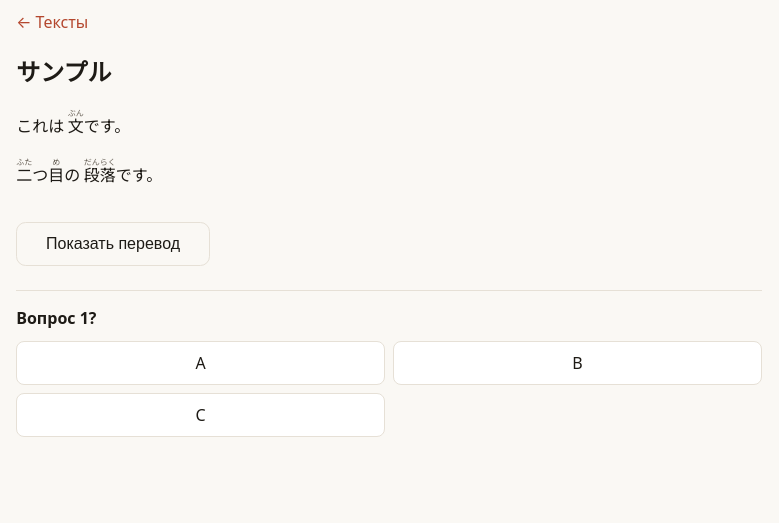
Test: TextDetailScreen › reveals the translation only after clicking the button
This screenshot has width=779, height=523.
Expected: the text "Это предложение." is not shown
Click the button "Показать перевод". click: (113, 244)
box: [16,222,210,266]
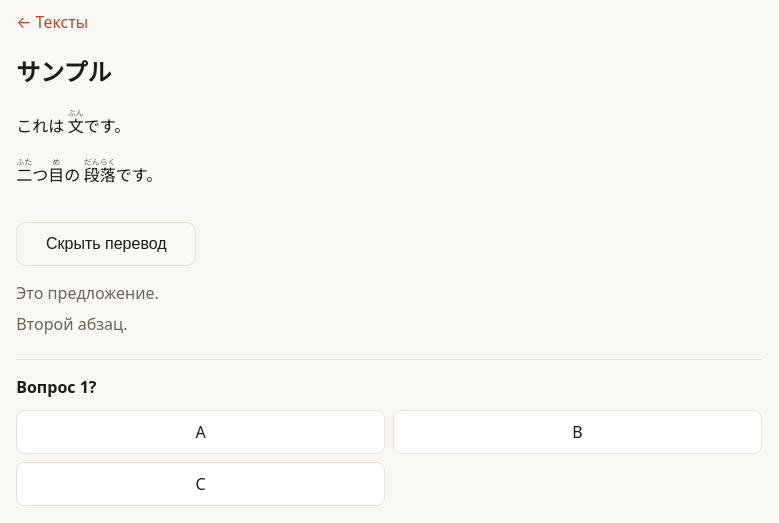
Result: the text "Это предложение." is shown at [16,282,159,304]
Result: the text "Второй абзац." is shown at [16,313,128,335]
